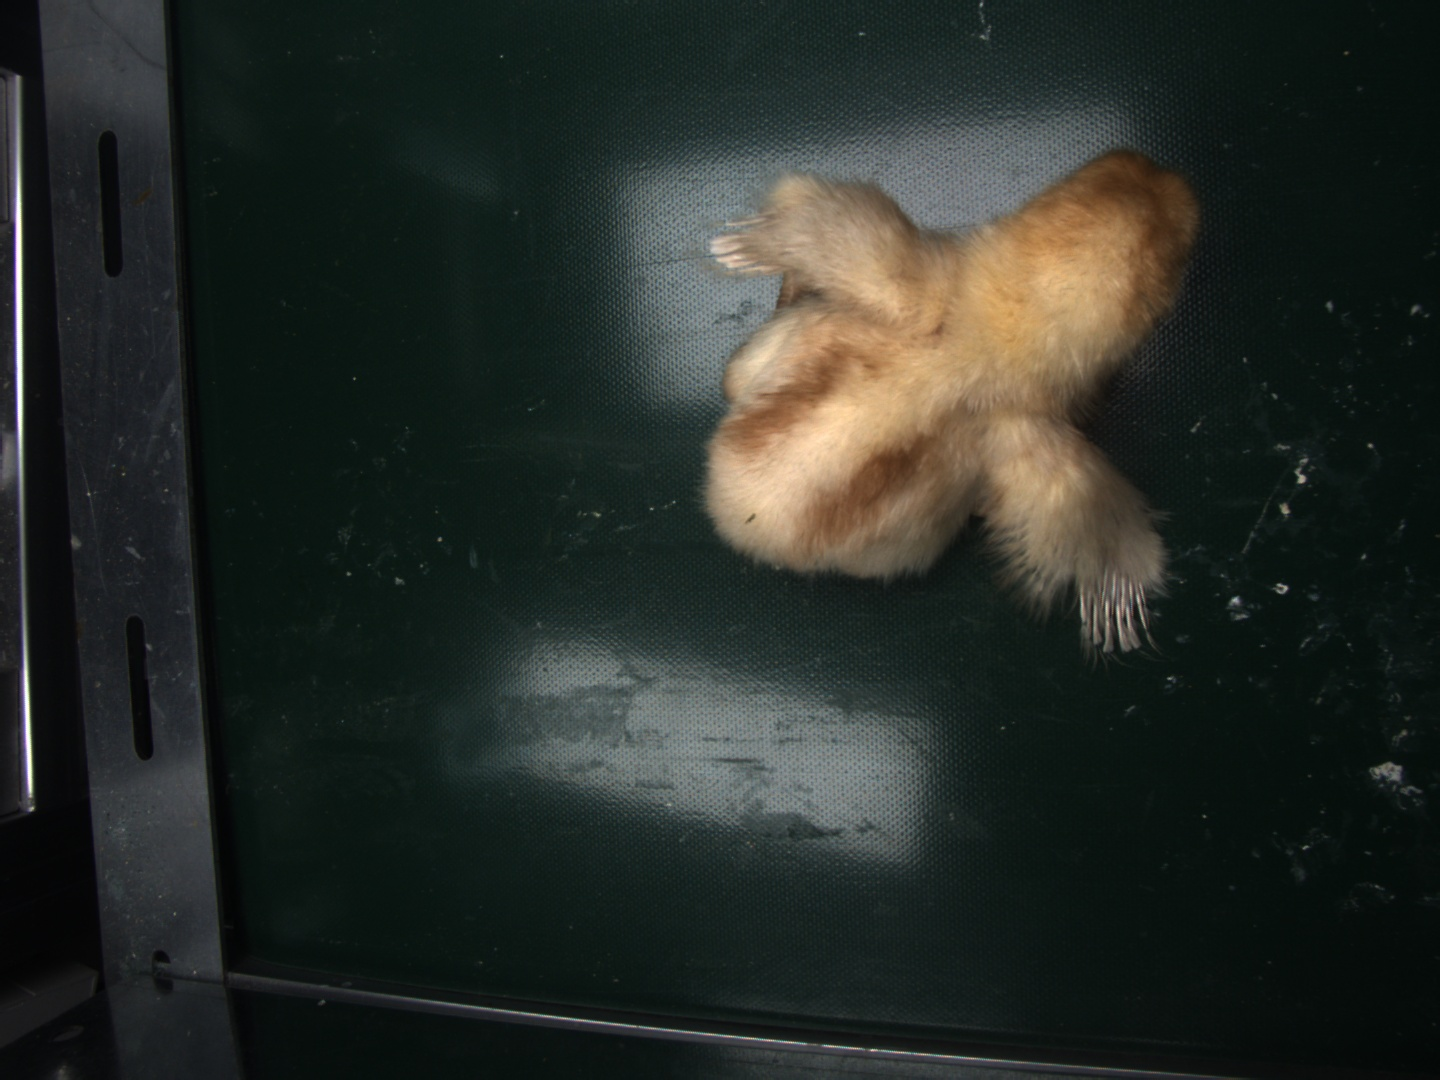female: (1079, 572, 1157, 657)
